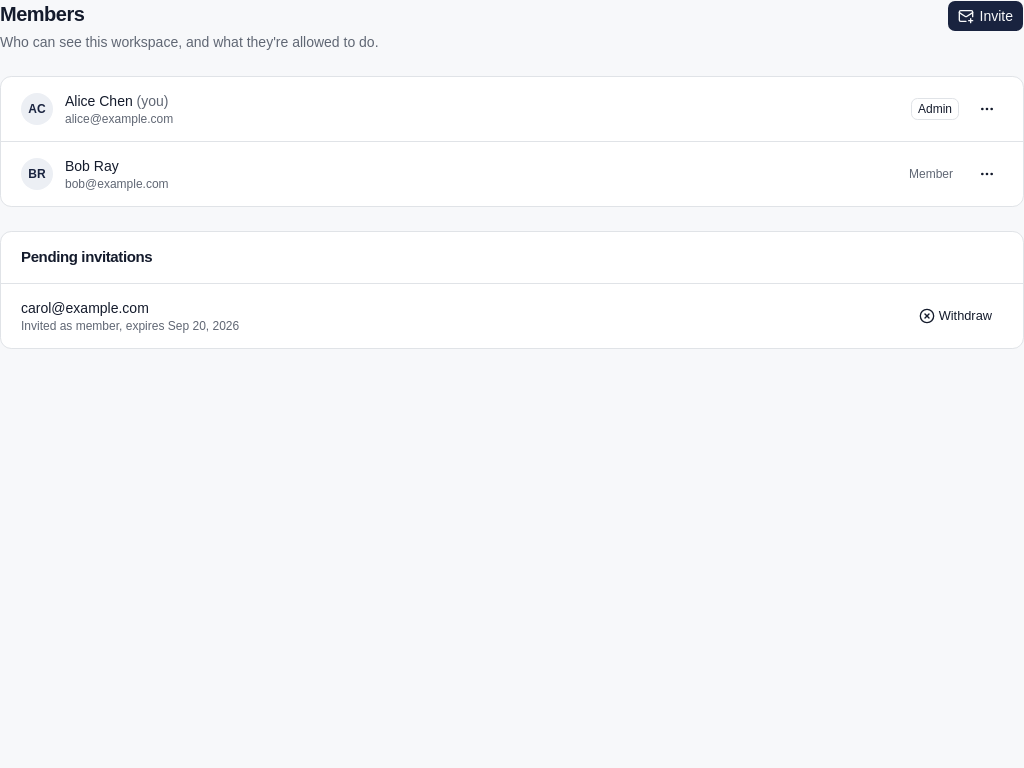
MembersPage › explains a conflict when the address is already a member
This screenshot has width=1024, height=768.
Click the button "Invite": click(985, 16) top-left (946, 0), bottom-right (1023, 32)
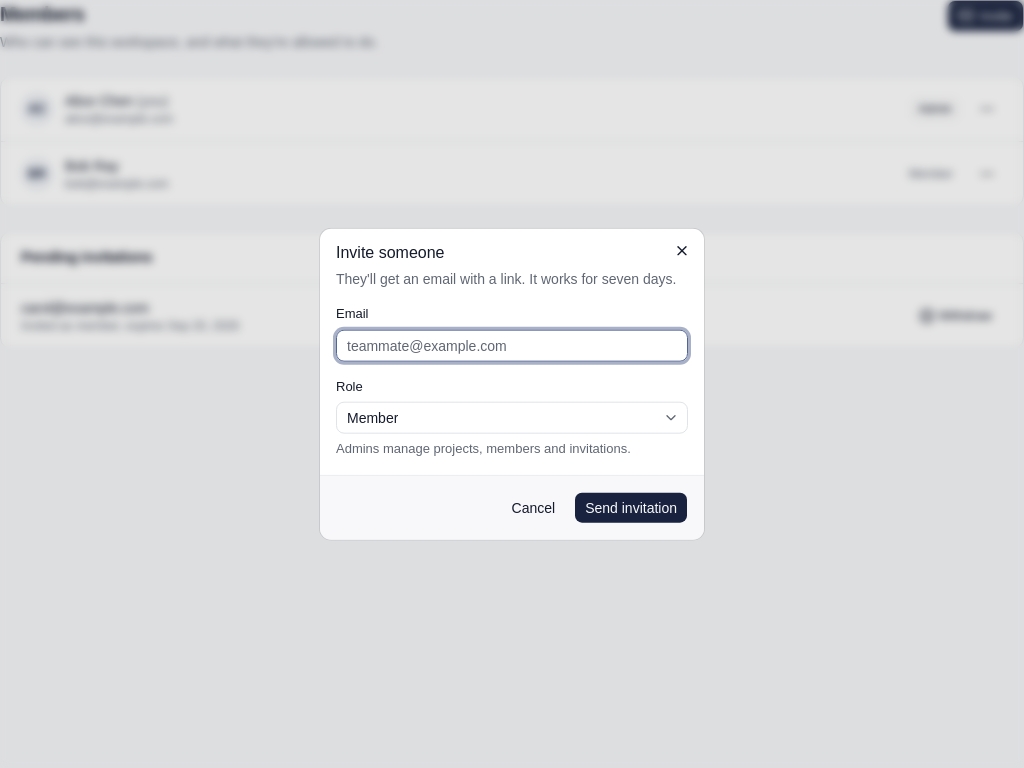
In the field labelled "Email": (512, 345) top-left (336, 329), bottom-right (688, 361), type "bob@example.com"
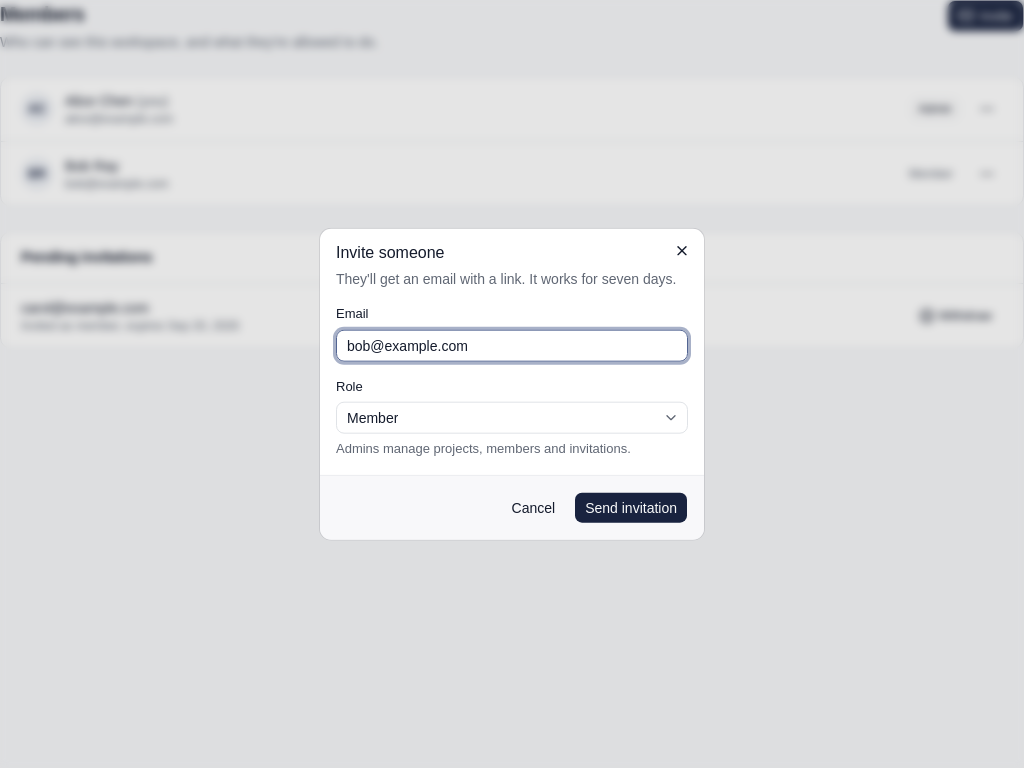
Click the button "Send invitation": click(631, 507) top-left (574, 491), bottom-right (688, 523)
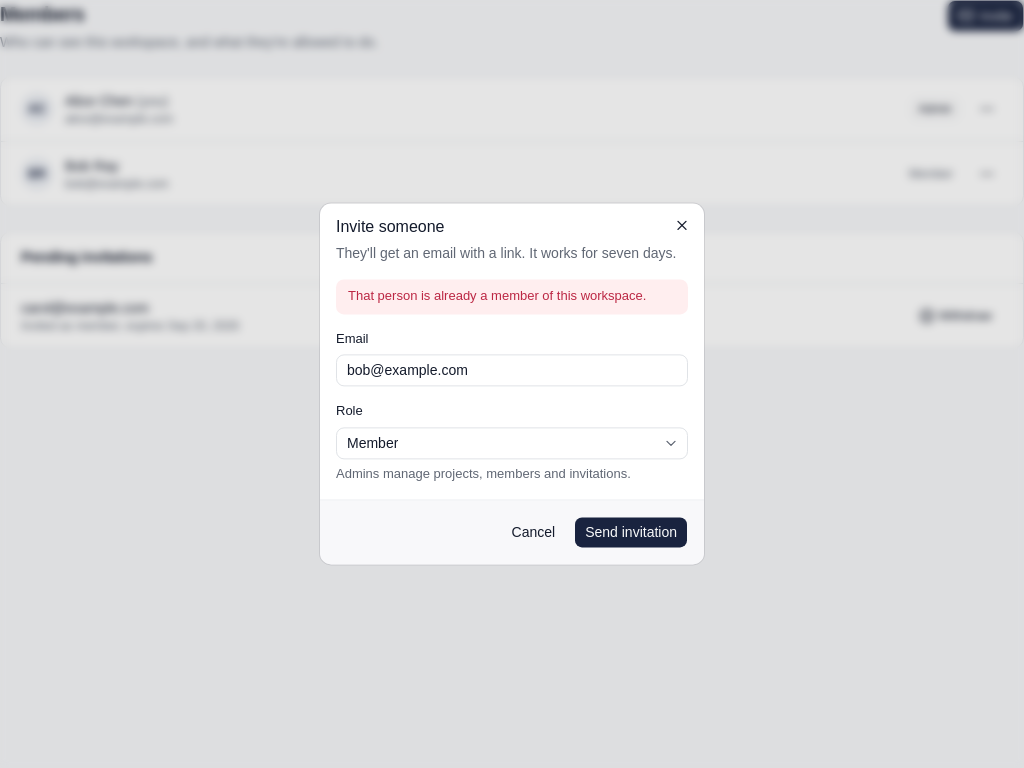
Now the text "That person is already a member of this workspace." is shown, box top-left (336, 279), bottom-right (688, 314)
